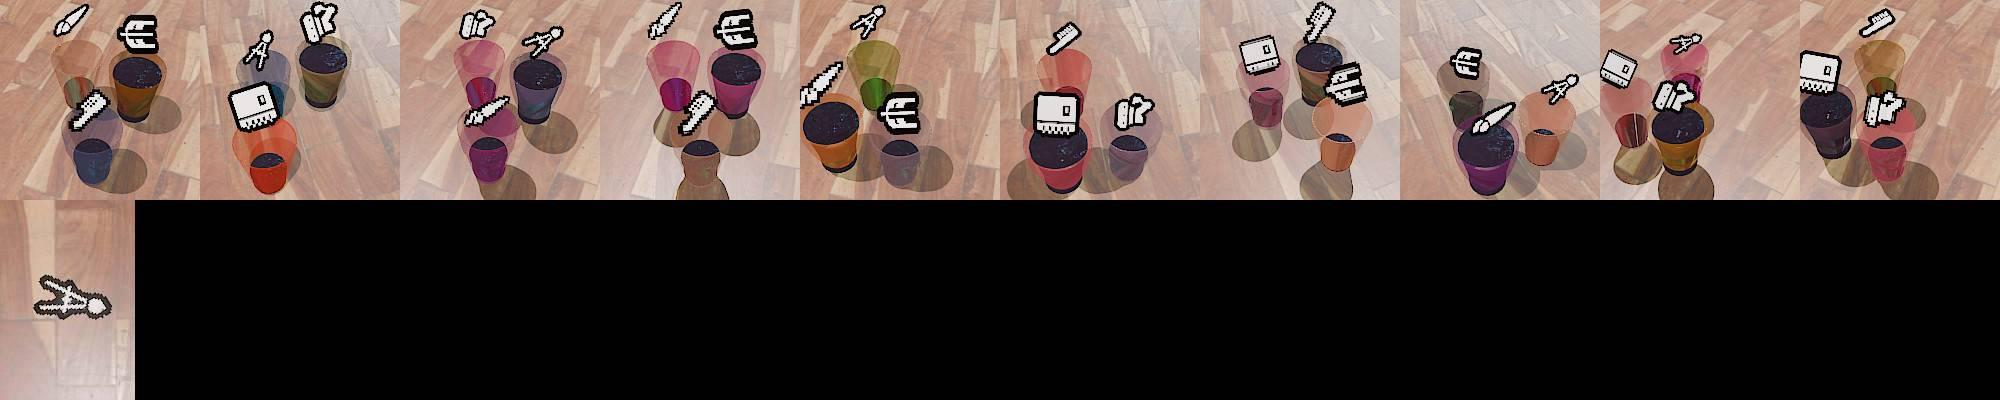icon: (31, 273, 114, 320), (228, 82, 282, 132), (798, 60, 844, 110), (1798, 48, 1843, 96), (1033, 90, 1082, 134), (876, 92, 922, 135), (713, 6, 759, 50), (677, 89, 718, 136), (1468, 98, 1518, 136), (1325, 61, 1367, 106), (1239, 34, 1282, 76), (69, 88, 110, 132), (116, 14, 159, 55), (463, 93, 511, 129), (1599, 47, 1639, 90), (1652, 76, 1698, 113), (1864, 87, 1904, 127), (520, 23, 565, 60), (300, 1, 339, 42), (1115, 92, 1154, 130), (1302, 0, 1337, 43), (848, 4, 886, 41), (647, 1, 682, 41), (242, 28, 274, 71), (1045, 19, 1080, 57), (1542, 71, 1580, 107), (458, 8, 497, 42), (52, 4, 91, 38), (1858, 6, 1897, 38), (1452, 46, 1483, 79), (1668, 32, 1703, 55)
